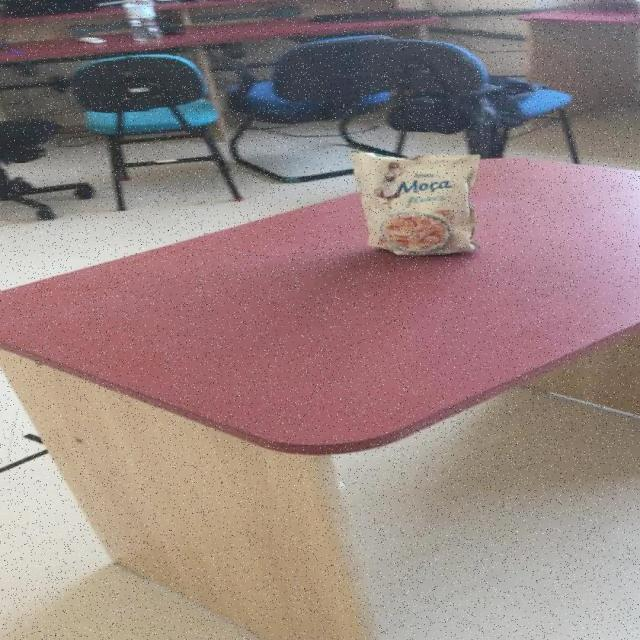CornFlakes: (348, 149, 480, 256), (380, 212, 448, 251)
